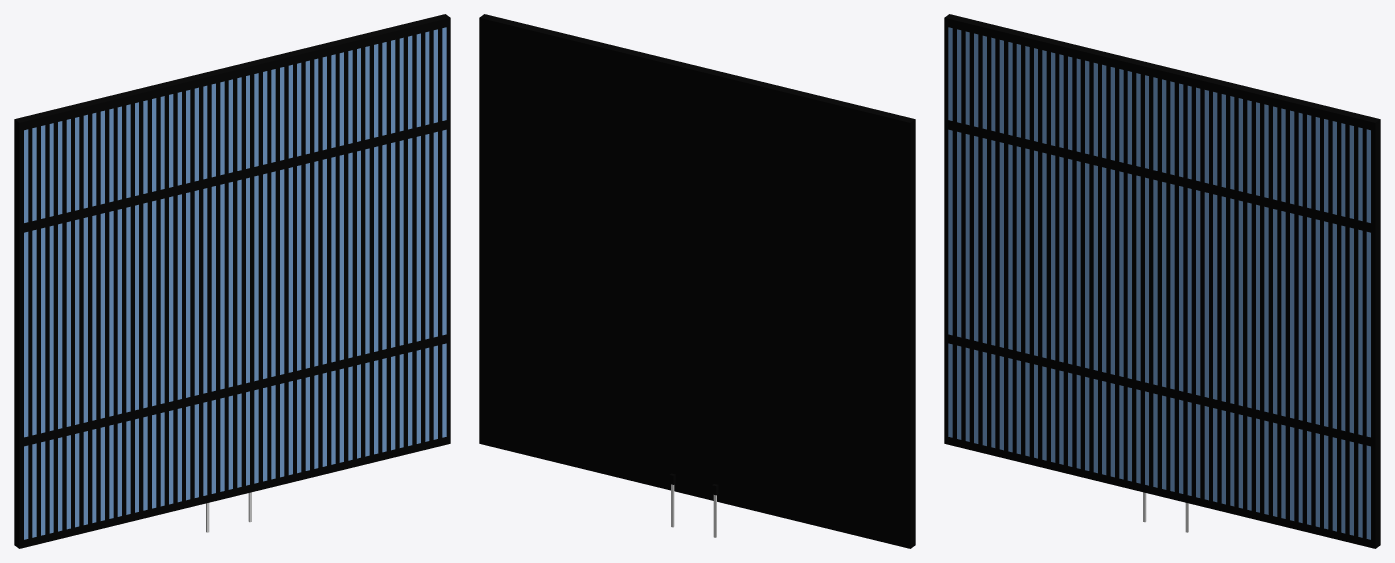
File: SolarCell.glb
The picture shows the model from 3 angles, left to right: view 1: azimuth 30°, elevation 25°; view 2: azimuth 150°, elevation 25°; view 3: azimuth 330°, elevation 25°; orthographic projection.
Visible parts, largest first — view 1: Solar Cell; view 2: Solar Cell; view 3: Solar Cell.
Boxes of the visible parts, x1=… form: Solar Cell: x1=14, y1=14, x2=450, y2=548; Solar Cell: x1=479, y1=14, x2=915, y2=548; Solar Cell: x1=944, y1=14, x2=1380, y2=548.
Bounding box in the file's own units: 1.49 × 1.52 × 0.043.
